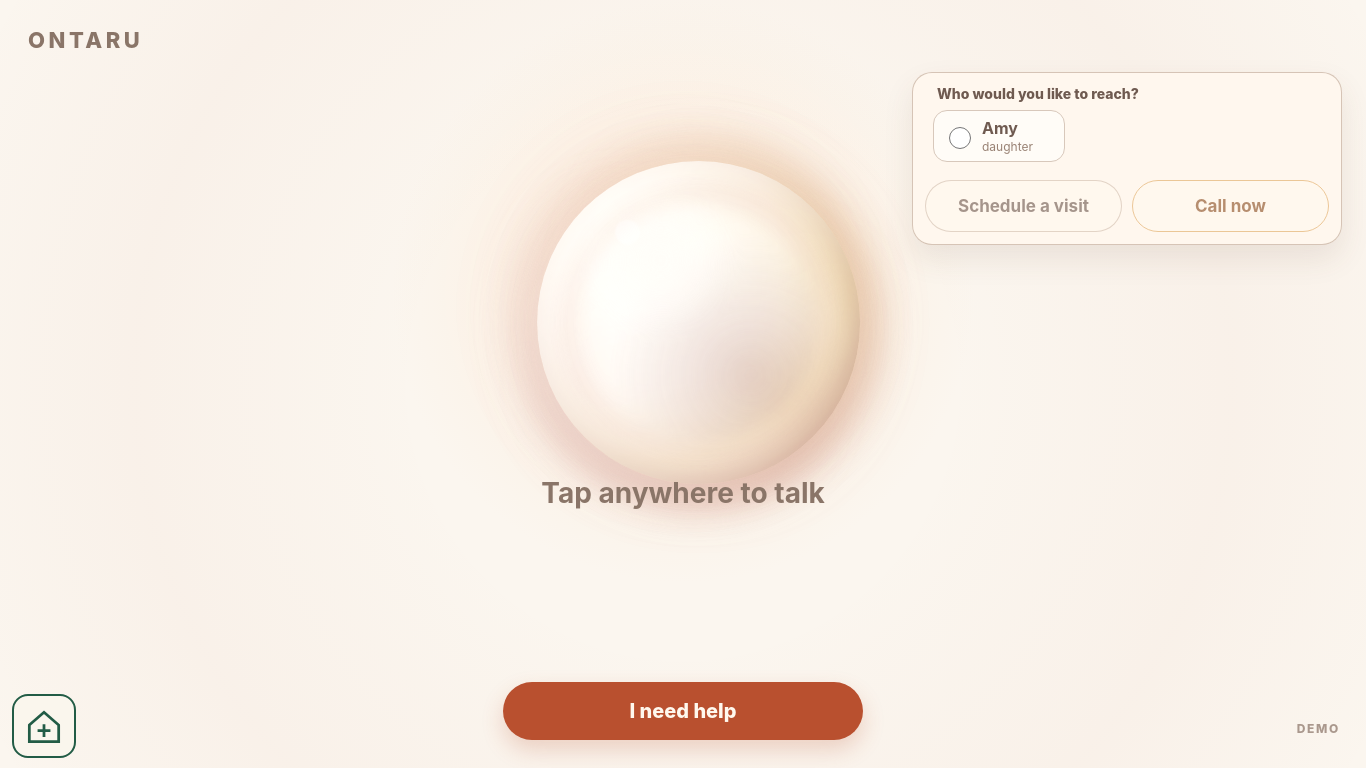
it: bottom-left home control returns from Talk and the visit calendar
Expected: the text "Tap anywhere to talk" is shown, [541,476,825,510]
Click the button named "Talk to Ontaru" at (683, 307), box [537,161,829,453]
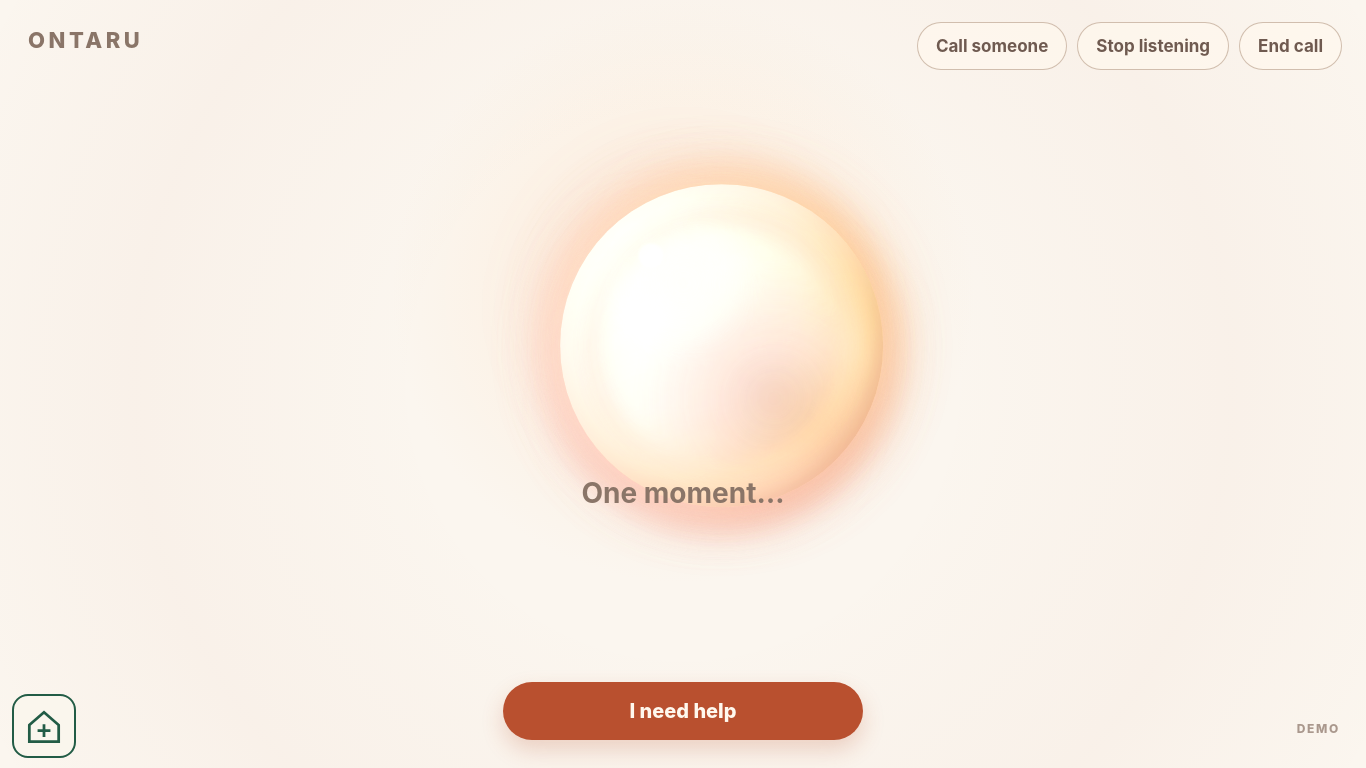
Result: the button "Stop listening" is shown at [1077,22,1229,70]
Click the button named "Home; hold 3 seconds for staff settings" at (44, 726), box [12,694,76,758]
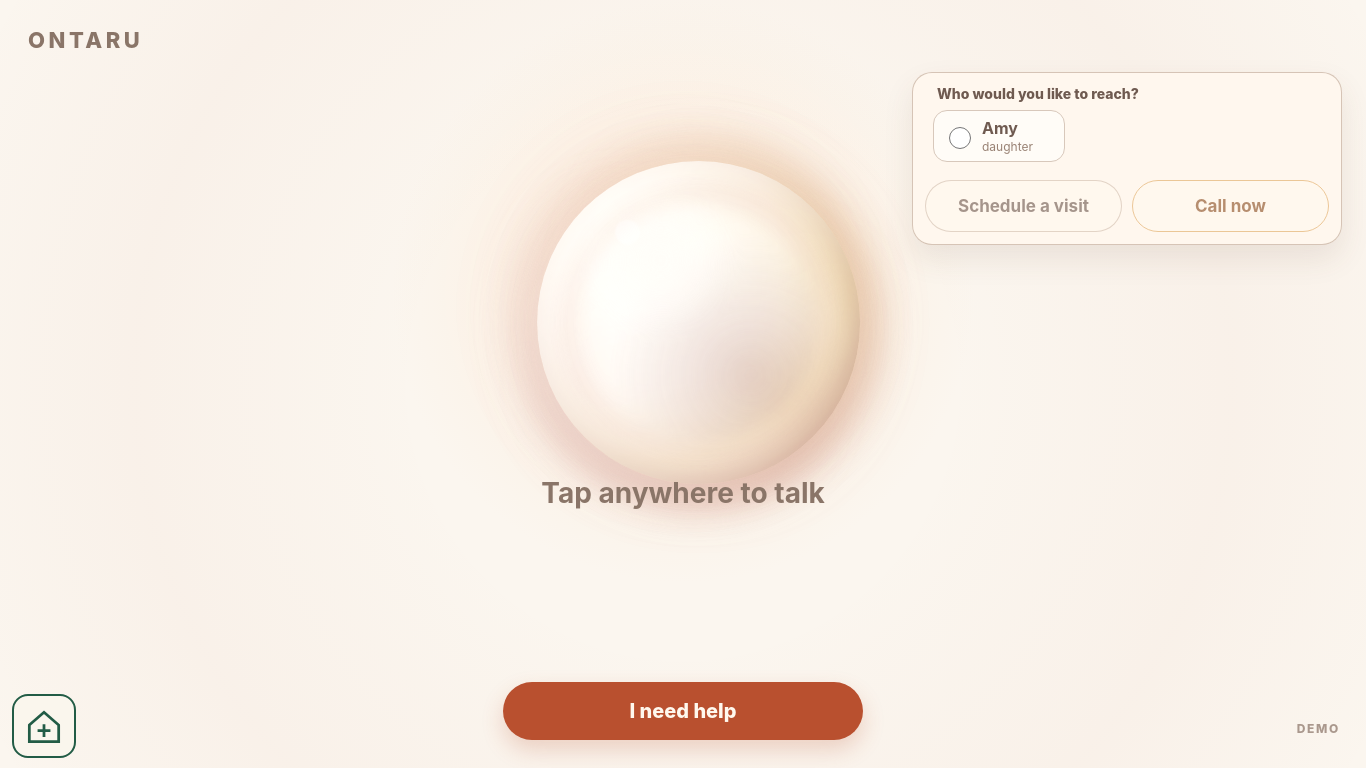
Result: the button named "Talk to Ontaru" is shown at [537,161,829,453]
Click the radio button labelled "Amy daughter" at (960, 138), box [949,126,971,148]
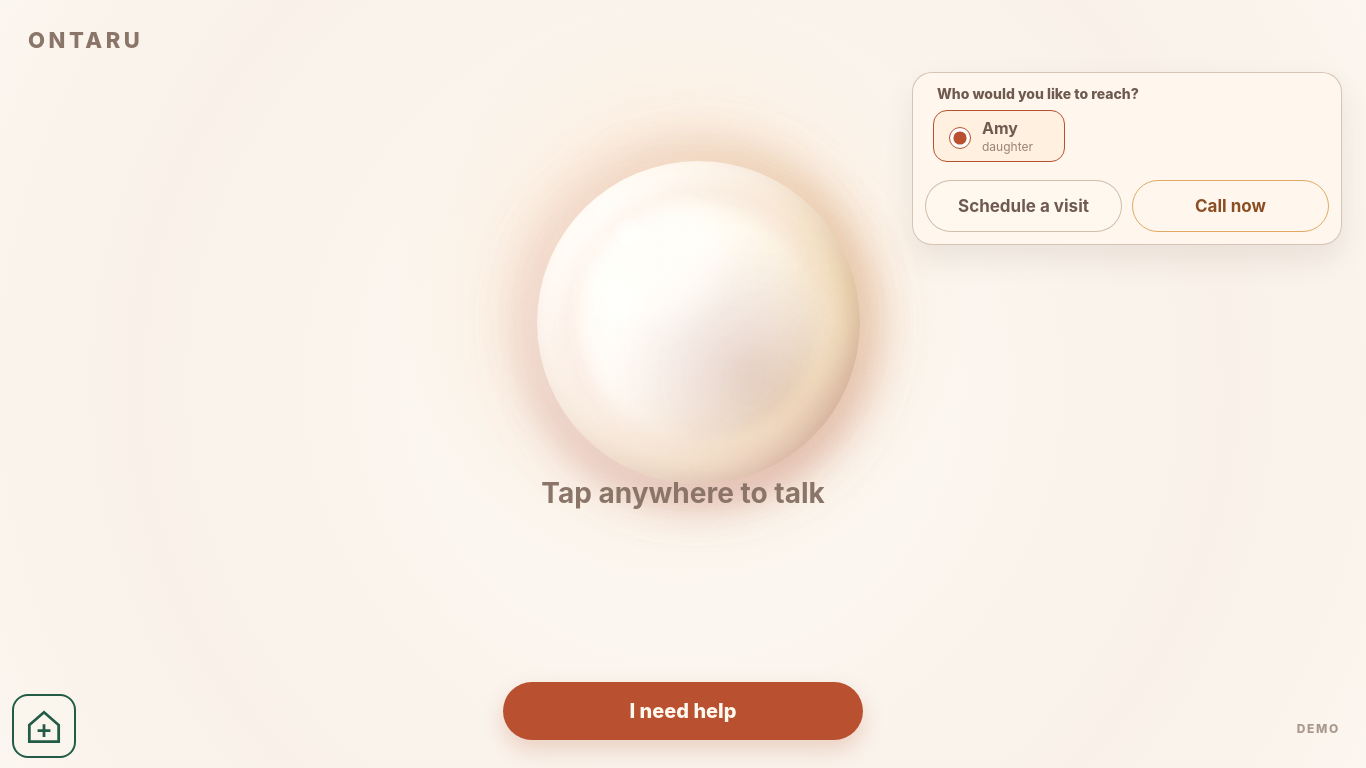
Click the button "Schedule a visit" at (1024, 206), box [925,180,1122,232]
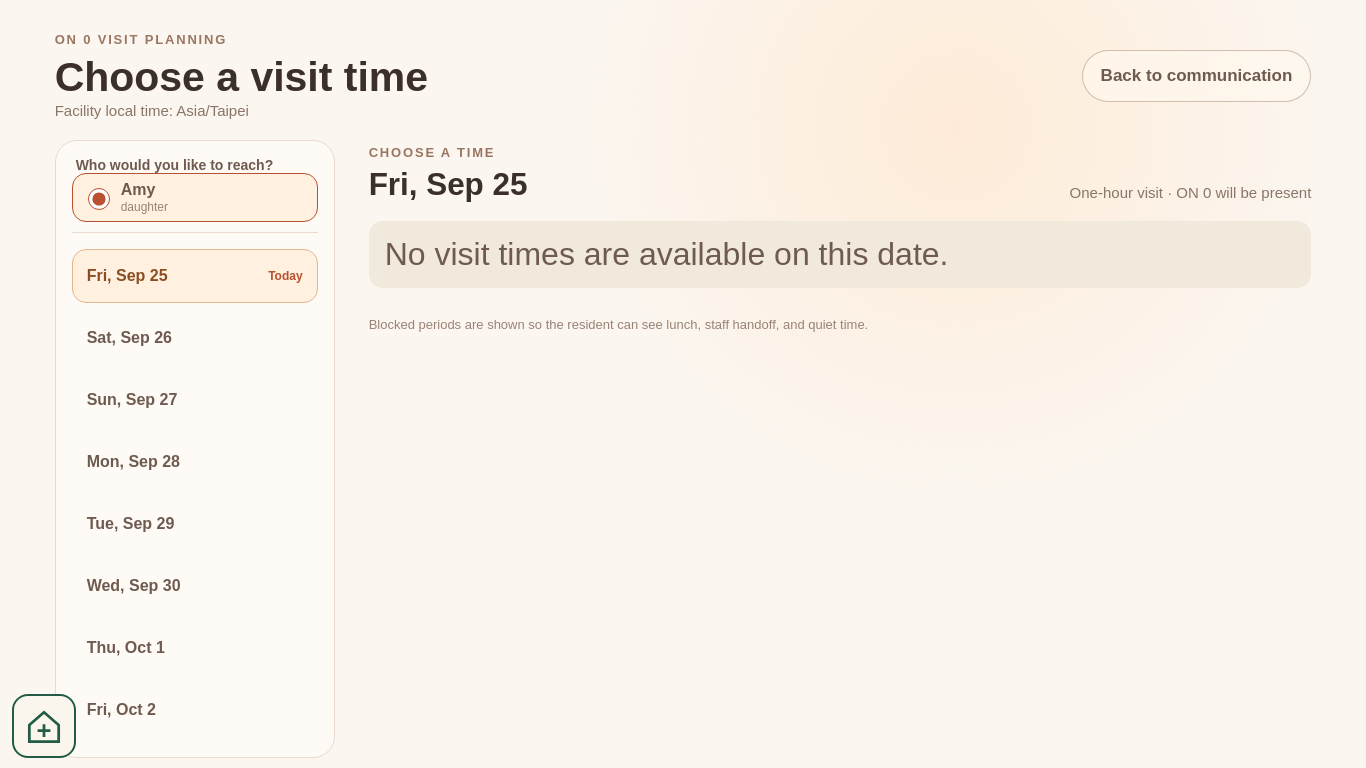
Click the button named "Home; hold 3 seconds for staff settings" at (44, 726), box [12,694,76,758]
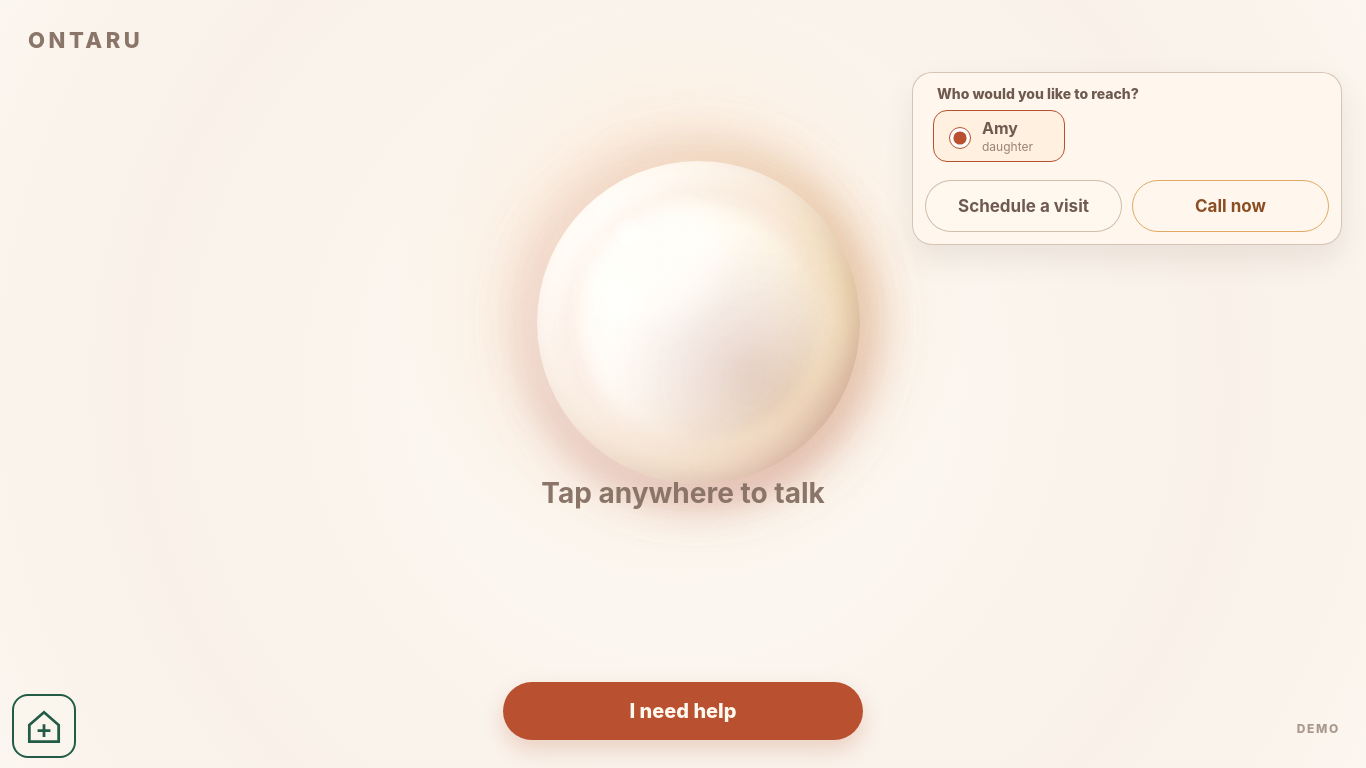
Result: the button named "Talk to Ontaru" is shown at [537,161,829,453]
